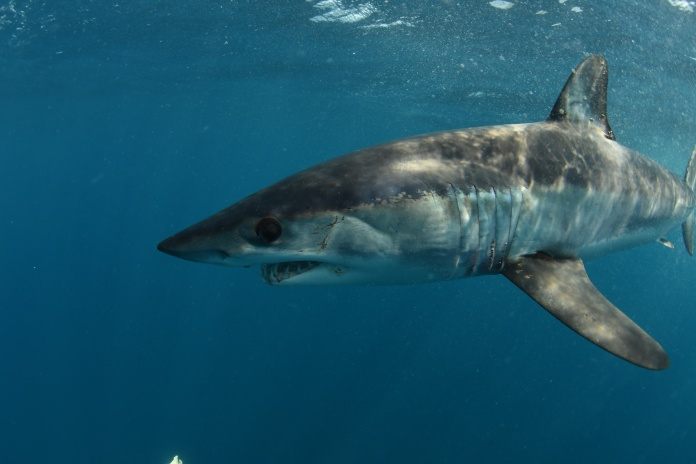Mako: (152, 53, 696, 376)
